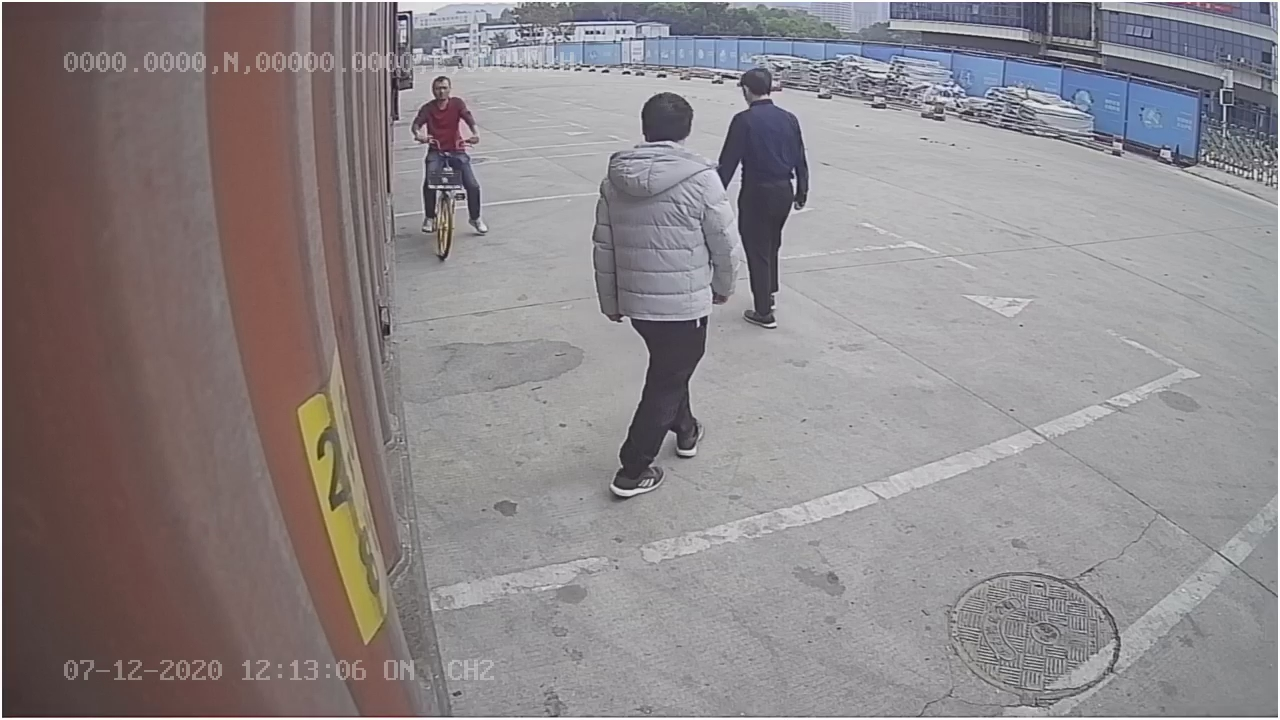person: (588, 83, 740, 502)
